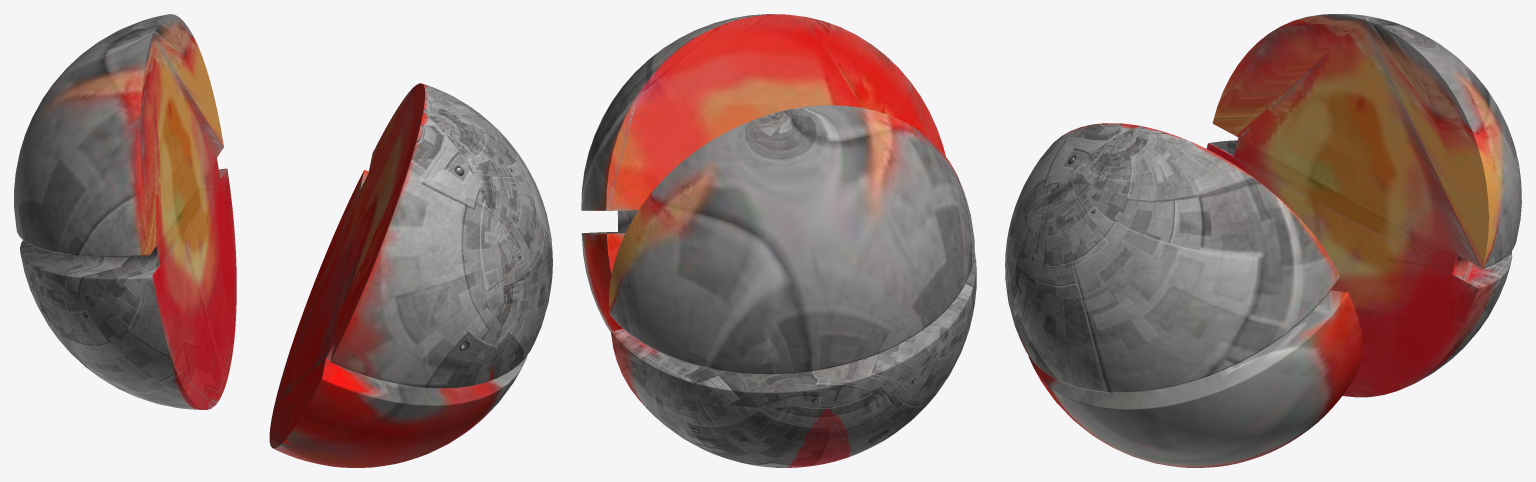
Rendered from Drone166_000006.obj.
The picture shows the model from 3 angles, left to right: view 1: azimuth 30°, elevation 25°; view 2: azimuth 150°, elevation 25°; view 3: azimuth 270°, elevation 25°; orthographic projection. The views are drawn at different scales.
Visible parts, largest first — view 1: Sphere.001_Sphere.005, Sphere.000_Sphere.004; view 2: Sphere.000_Sphere.004, Sphere.001_Sphere.005; view 3: Sphere.001_Sphere.005, Sphere.000_Sphere.004.
Part boxes in pixels (left/top/right/bottom): Sphere.001_Sphere.005: left=269, top=83, right=552, bottom=467; Sphere.000_Sphere.004: left=14, top=14, right=236, bottom=409; Sphere.000_Sphere.004: left=609, top=105, right=976, bottom=467; Sphere.001_Sphere.005: left=581, top=14, right=945, bottom=332; Sphere.001_Sphere.005: left=1005, top=123, right=1362, bottom=467; Sphere.000_Sphere.004: left=1206, top=14, right=1521, bottom=397.
Bounding box in the file's own units: 2.54 × 2.26 × 2.82.
Materials: 4 (4 with a texture image).
